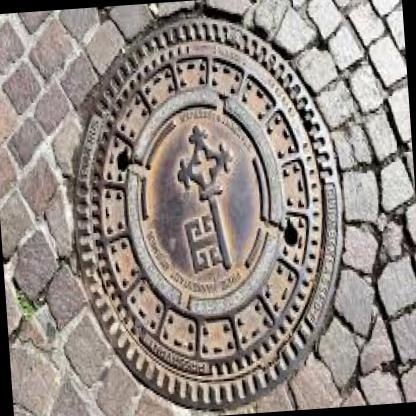manholes: (22, 0, 366, 416)
